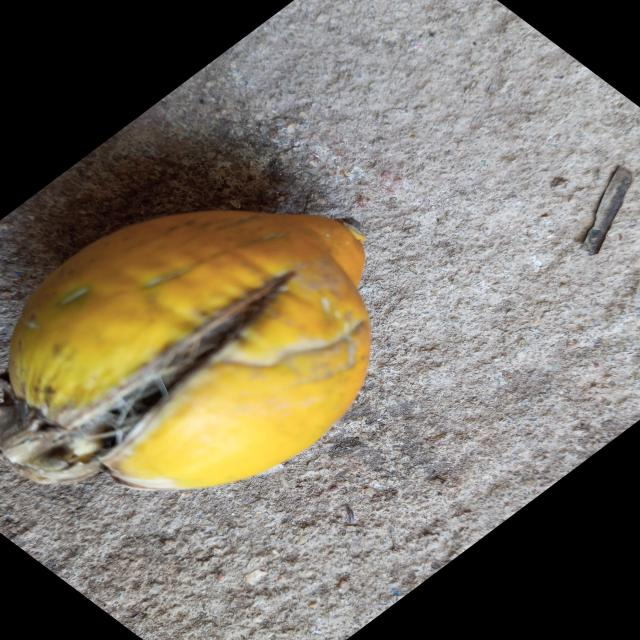damaged: (0, 209, 372, 492)
